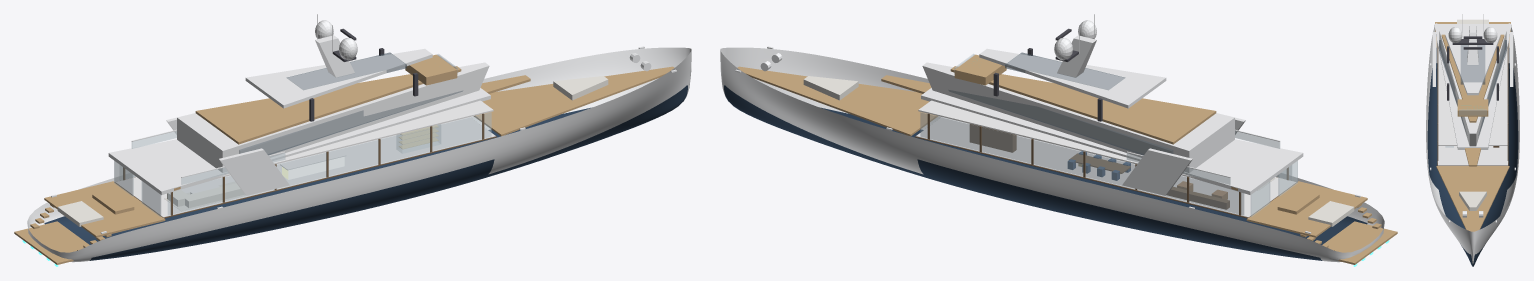
Rendered from yacht.glb.
The picture shows the model from 3 angles, left to right: view 1: azimuth 30°, elevation 25°; view 2: azimuth 150°, elevation 25°; view 3: azimuth 270°, elevation 25°; orthographic projection. The views are drawn at different scales.
Visible parts, largest first — view 1: Superyacht_Hull, Bridge_Superstructure, Salon_Window_Glass_Stbd, Salon_Roof_Structure, Sun_Deck_Teak, Salon_Marble_Floor, Foredeck_Teak, Flybridge_Hardtop, AftDeck_Teak, Salon_Ceiling, Bridge_Glass_Ribbon, Aero_Buttress_Stbd (+16 smaller); view 2: Superyacht_Hull, Bridge_Superstructure, Salon_Window_Glass_Port, Salon_Marble_Floor, Salon_Roof_Structure, Sun_Deck_Teak, Foredeck_Teak, Flybridge_Hardtop, AftDeck_Teak, Bridge_Glass_Ribbon, Salon_Ceiling, Aero_Buttress_Port (+15 smaller); view 3: Superyacht_Hull, Foredeck_Teak, Salon_Ceiling, Salon_Roof_Structure, Flybridge_Hardtop, Bridge_Superstructure, Salon_Marble_Floor, Sun_Deck_Teak, Hardtop_Skylight_Glass, Bridge_Glass_Ribbon, Jacuzzi_Coping, Bow_Conversation_Lounge (+13 smaller).
Boxes of the visible parts, x1,y1,x2,y2 form: Superyacht_Hull: (27,47,691,262); Bridge_Superstructure: (177,62,489,172); Salon_Window_Glass_Stbd: (167,112,491,215); Salon_Roof_Structure: (108,88,490,194); Sun_Deck_Teak: (195,66,461,144); Salon_Marble_Floor: (115,117,495,217); Foredeck_Teak: (473,66,674,136); Flybridge_Hardtop: (245,48,432,108); AftDeck_Teak: (44,181,165,237); Salon_Ceiling: (217,100,493,178); Bridge_Glass_Ribbon: (239,91,462,155); Aero_Buttress_Stbd: (219,148,289,195); Superyacht_Hull: (720,47,1384,262); Bridge_Superstructure: (922,62,1234,172); Salon_Window_Glass_Port: (920,112,1244,215); Salon_Marble_Floor: (916,117,1296,217); Salon_Roof_Structure: (921,88,1303,194); Sun_Deck_Teak: (950,66,1216,144); Foredeck_Teak: (737,66,938,136); Flybridge_Hardtop: (979,48,1166,108); AftDeck_Teak: (1246,181,1367,237); Bridge_Glass_Ribbon: (948,90,1172,155); Salon_Ceiling: (918,100,1194,178); Aero_Buttress_Port: (1122,148,1192,195); Superyacht_Hull: (1426,28,1519,266); Foredeck_Teak: (1436,166,1509,231); Salon_Ceiling: (1438,48,1507,145); Salon_Roof_Structure: (1434,24,1511,149); Flybridge_Hardtop: (1445,34,1500,95); Bridge_Superstructure: (1439,31,1506,146); Salon_Marble_Floor: (1438,146,1507,165); Sun_Deck_Teak: (1441,34,1504,122); Hardtop_Skylight_Glass: (1460,45,1485,84); Bridge_Glass_Ribbon: (1439,40,1506,135); Jacuzzi_Coping: (1457,99,1488,116); Bow_Conversation_Lounge: (1459,191,1486,210).
Size of the model in its own units: 75.88 by 21.01 by 12.84.
